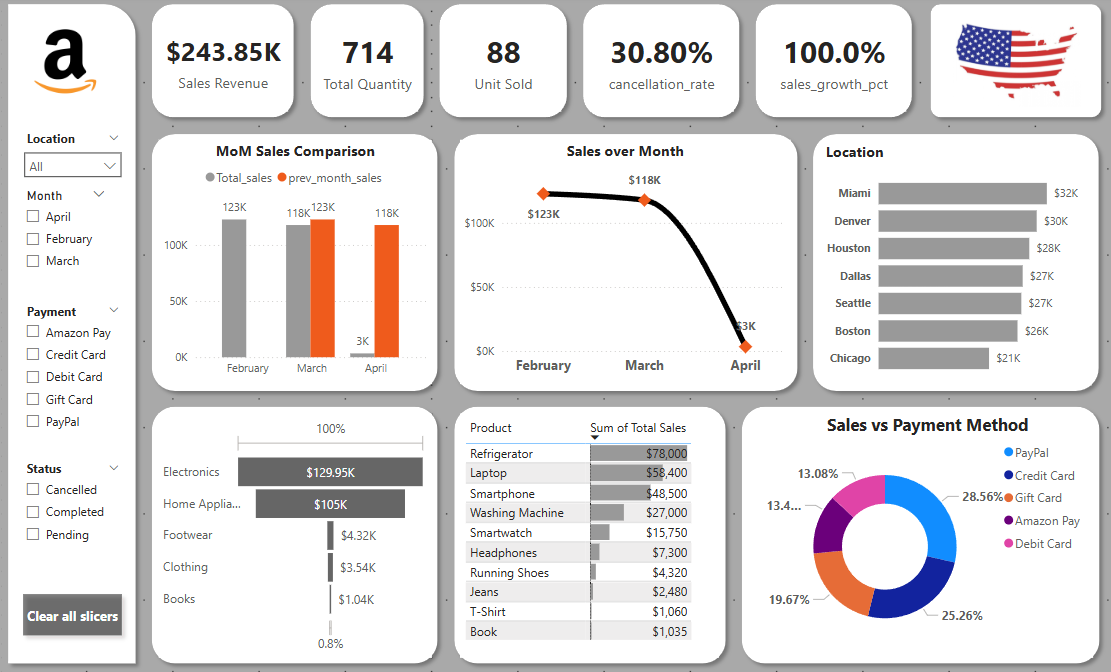

Layout of this report page (visuals, bound fields, positions):
{"tool":"powerbi","page":{"name":"Page 1","canvas":[1245,786],"ordinal":0},"visuals":[{"type":"shape","box":[1027.3,0,208,144],"z":0,"group":"g1"},{"type":"shape","box":[816,448,416,304],"z":0},{"type":"shape","box":[896,144,336,304],"z":1000,"group":"g2"},{"type":"shape","box":[496,448,320,304],"z":1000},{"type":"shape","box":[160,448,336,304],"z":2000},{"type":"shape","box":[496,144,400,304],"z":3000},{"type":"shape","box":[160,144,336,304],"z":4000},{"type":"shape","box":[832,0,192,144],"z":5000},{"type":"shape","box":[640,0,192,144],"z":6000},{"type":"shape","box":[480,0,160,144],"z":7000},{"type":"shape","box":[160,0,176,144],"z":8000},{"type":"shape","box":[0,0,160,752],"z":9000},{"type":"shape","box":[336,0,144,144],"z":10000,"group":"g3"},{"type":"card","fields":{"Values":["Sum(amazon_sales_data 2025.Total Sales)"]},"box":[176,16,144,112],"z":10000},{"type":"slicer","fields":{"Values":["dim_customer.Customer Location"]},"box":[16,144,128,80],"z":11000},{"type":"card","fields":{"Values":["new_measure.unit_sold"]},"box":[496,16,128,112],"z":12000},{"type":"slicer","fields":{"Values":["amazon_sales_data 2025.Status"]},"box":[16,512,128,112],"z":13000},{"type":"slicer","fields":{"Values":["amazon_sales_data 2025.Payment Method"]},"box":[16,336,128,160],"z":14000},{"type":"card","fields":{"Values":["Sum(amazon_sales_data 2025.Quantity)"]},"box":[352,16,112,112],"z":15000,"group":"g3"},{"type":"donutChart","title":"Sales vs Payment Method","fields":{"Category":["amazon_sales_data 2025.Payment Method"],"Y":["Sum(amazon_sales_data 2025.Total Sales)"]},"box":[848,464,368,272],"z":15000},{"type":"image","box":[16,16,112,112],"z":16000},{"type":"clusteredColumnChart","title":"MoM Sales Comparison","fields":{"Category":["dim_date.Start of Month"],"Y":["new_measure.Total_sales","new_measure.prev_month_sales"]},"box":[176,160,304,272],"z":17000},{"type":"barChart","title":"Location","fields":{"Category":["amazon_sales_data 2025.Customer Location"],"Y":["Sum(amazon_sales_data 2025.Total Sales)"]},"box":[913.7,160,300.6,272],"z":17000,"group":"g2"},{"type":"card","fields":{"Values":["new_measure.cancellation_rate"]},"box":[656,16,160,112],"z":18000},{"type":"card","fields":{"Values":["new_measure.sales_growth_pct"]},"box":[848,16,160,112],"z":19000},{"type":"slicer","fields":{"Values":["dim_date.Start of Month"]},"box":[16,208,112,112],"z":20000},{"type":"tableEx","fields":{"Values":["amazon_sales_data 2025.Product","Sum(amazon_sales_data 2025.Total Sales)"]},"box":[512,464,288,272],"z":21000},{"type":"funnel","fields":{"Category":["amazon_sales_data 2025.Category"],"Y":["Sum(amazon_sales_data 2025.Total Sales)"]},"box":[176,464,304,272],"z":22000},{"type":"lineChart","title":"Sales over Month","fields":{"Y":["Sum(amazon_sales_data 2025.Total Sales)"],"Category":["dim_date.Date.Variation.Date Hierarchy.Month"]},"box":[512,160,368,272],"z":23000},{"type":"group","id":"g1","title":"Group 1","box":[1027.3,0,208,144],"z":24000},{"type":"group","id":"g2","title":"Group 2","box":[896,144,336,304],"z":25000},{"type":"actionButton","box":[16,656,128,64],"z":26000},{"type":"group","id":"g3","title":"Group 3","box":[336,0,144,144],"z":27000},{"type":"image","box":[1043.3,16,176,112],"z":29000,"group":"g1"}]}

Visuals, with their boxes on the page's 1245x786 design canvas (x1, y1, x2, y2). These are canvas units, not pixel positions in the 1111x672 screenshot, which may show the page scaled, cropped or inside an application window:
shape: bbox=(1027, 0, 1235, 144)
shape: bbox=(816, 448, 1232, 752)
shape: bbox=(896, 144, 1232, 448)
shape: bbox=(496, 448, 816, 752)
shape: bbox=(160, 448, 496, 752)
shape: bbox=(496, 144, 896, 448)
shape: bbox=(160, 144, 496, 448)
shape: bbox=(832, 0, 1024, 144)
shape: bbox=(640, 0, 832, 144)
shape: bbox=(480, 0, 640, 144)
shape: bbox=(160, 0, 336, 144)
shape: bbox=(0, 0, 160, 752)
shape: bbox=(336, 0, 480, 144)
card - Sum(amazon_sales_data 2025.Total Sales): bbox=(176, 16, 320, 128)
slicer - dim_customer.Customer Location: bbox=(16, 144, 144, 224)
card - new_measure.unit_sold: bbox=(496, 16, 624, 128)
slicer - amazon_sales_data 2025.Status: bbox=(16, 512, 144, 624)
slicer - amazon_sales_data 2025.Payment Method: bbox=(16, 336, 144, 496)
card - Sum(amazon_sales_data 2025.Quantity): bbox=(352, 16, 464, 128)
"Sales vs Payment Method" donutChart: bbox=(848, 464, 1216, 736)
image: bbox=(16, 16, 128, 128)
"MoM Sales Comparison" clusteredColumnChart: bbox=(176, 160, 480, 432)
"Location" barChart: bbox=(914, 160, 1214, 432)
card - new_measure.cancellation_rate: bbox=(656, 16, 816, 128)
card - new_measure.sales_growth_pct: bbox=(848, 16, 1008, 128)
slicer - dim_date.Start of Month: bbox=(16, 208, 128, 320)
tableEx - amazon_sales_data 2025.Product x Sum(amazon_sales_data 2025.Total Sales): bbox=(512, 464, 800, 736)
funnel - amazon_sales_data 2025.Category x Sum(amazon_sales_data 2025.Total Sales): bbox=(176, 464, 480, 736)
"Sales over Month" lineChart: bbox=(512, 160, 880, 432)
"Group 1" group: bbox=(1027, 0, 1235, 144)
"Group 2" group: bbox=(896, 144, 1232, 448)
actionButton: bbox=(16, 656, 144, 720)
"Group 3" group: bbox=(336, 0, 480, 144)
image: bbox=(1043, 16, 1219, 128)
